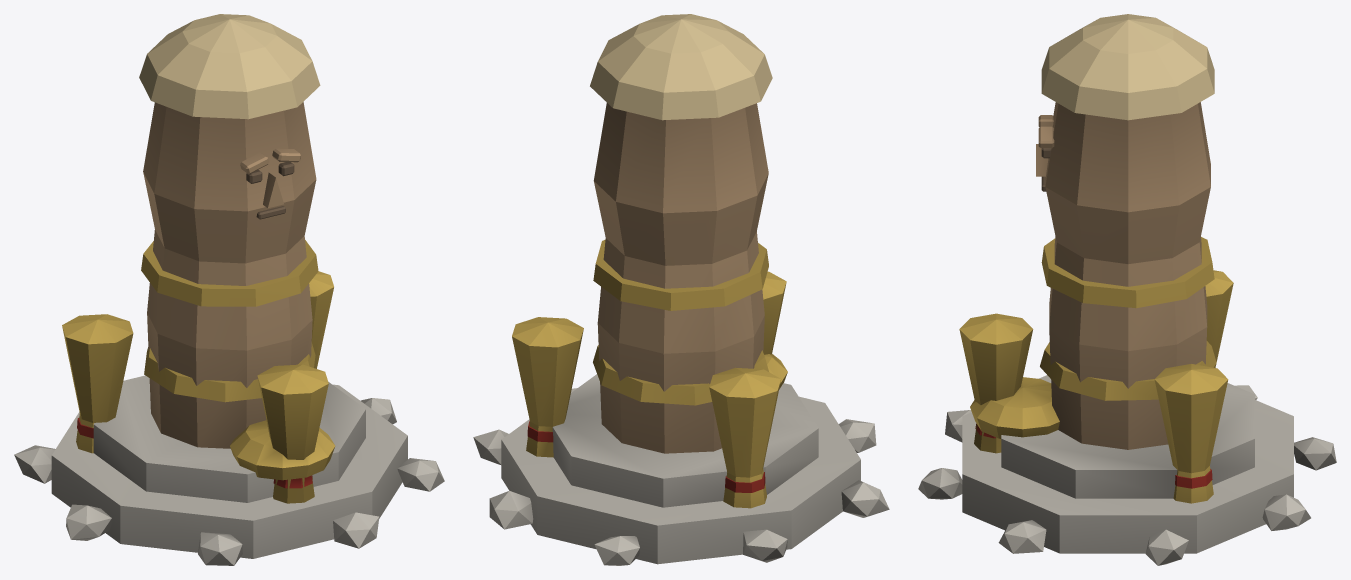
The model's file is idol_food.glb.
3 renders of one model, left to right at view 1: azimuth 30°, elevation 25°; view 2: azimuth 150°, elevation 25°; view 3: azimuth 270°, elevation 25°, orthographic.
Visible parts, largest first — view 1: idol_food; view 2: idol_food; view 3: idol_food.
Part boxes in pixels (x1,y1,x2,y2): idol_food: (14,14,444,565); idol_food: (473,14,889,565); idol_food: (918,14,1336,565).
Size of the model in its own units: 0.7993 by 0.9784 by 0.7936.
